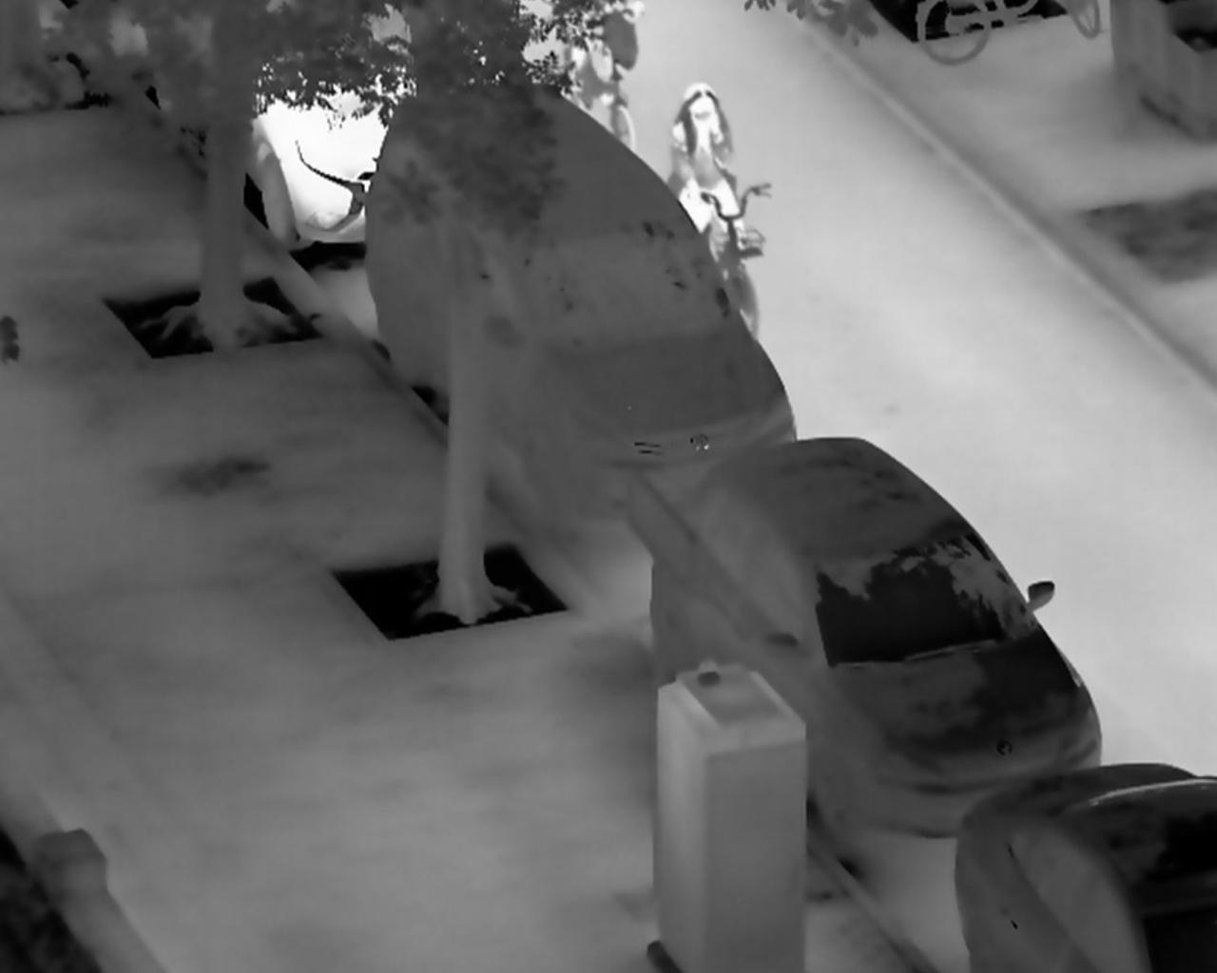person: (664, 82, 751, 262)
